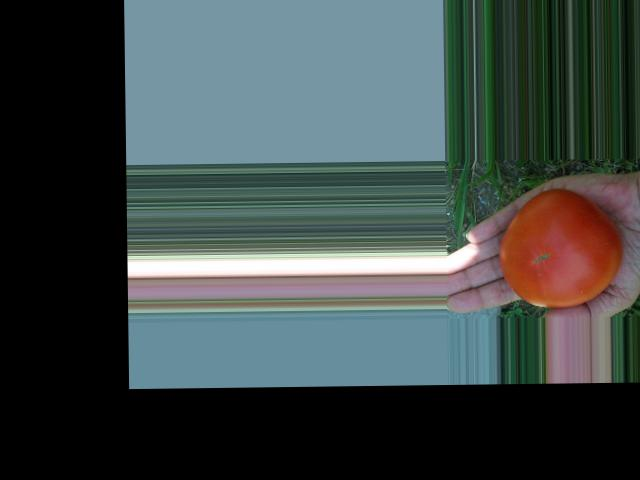tomato: (498, 187, 621, 308)
